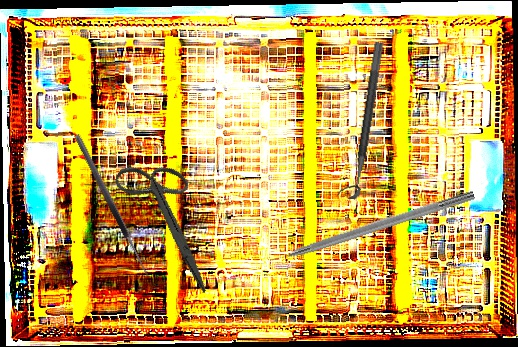Fixation Ring: (336, 39, 385, 201)
Hook Surgical: (258, 187, 476, 270), (72, 130, 160, 280)
Iris Scissors: (87, 145, 251, 295)
